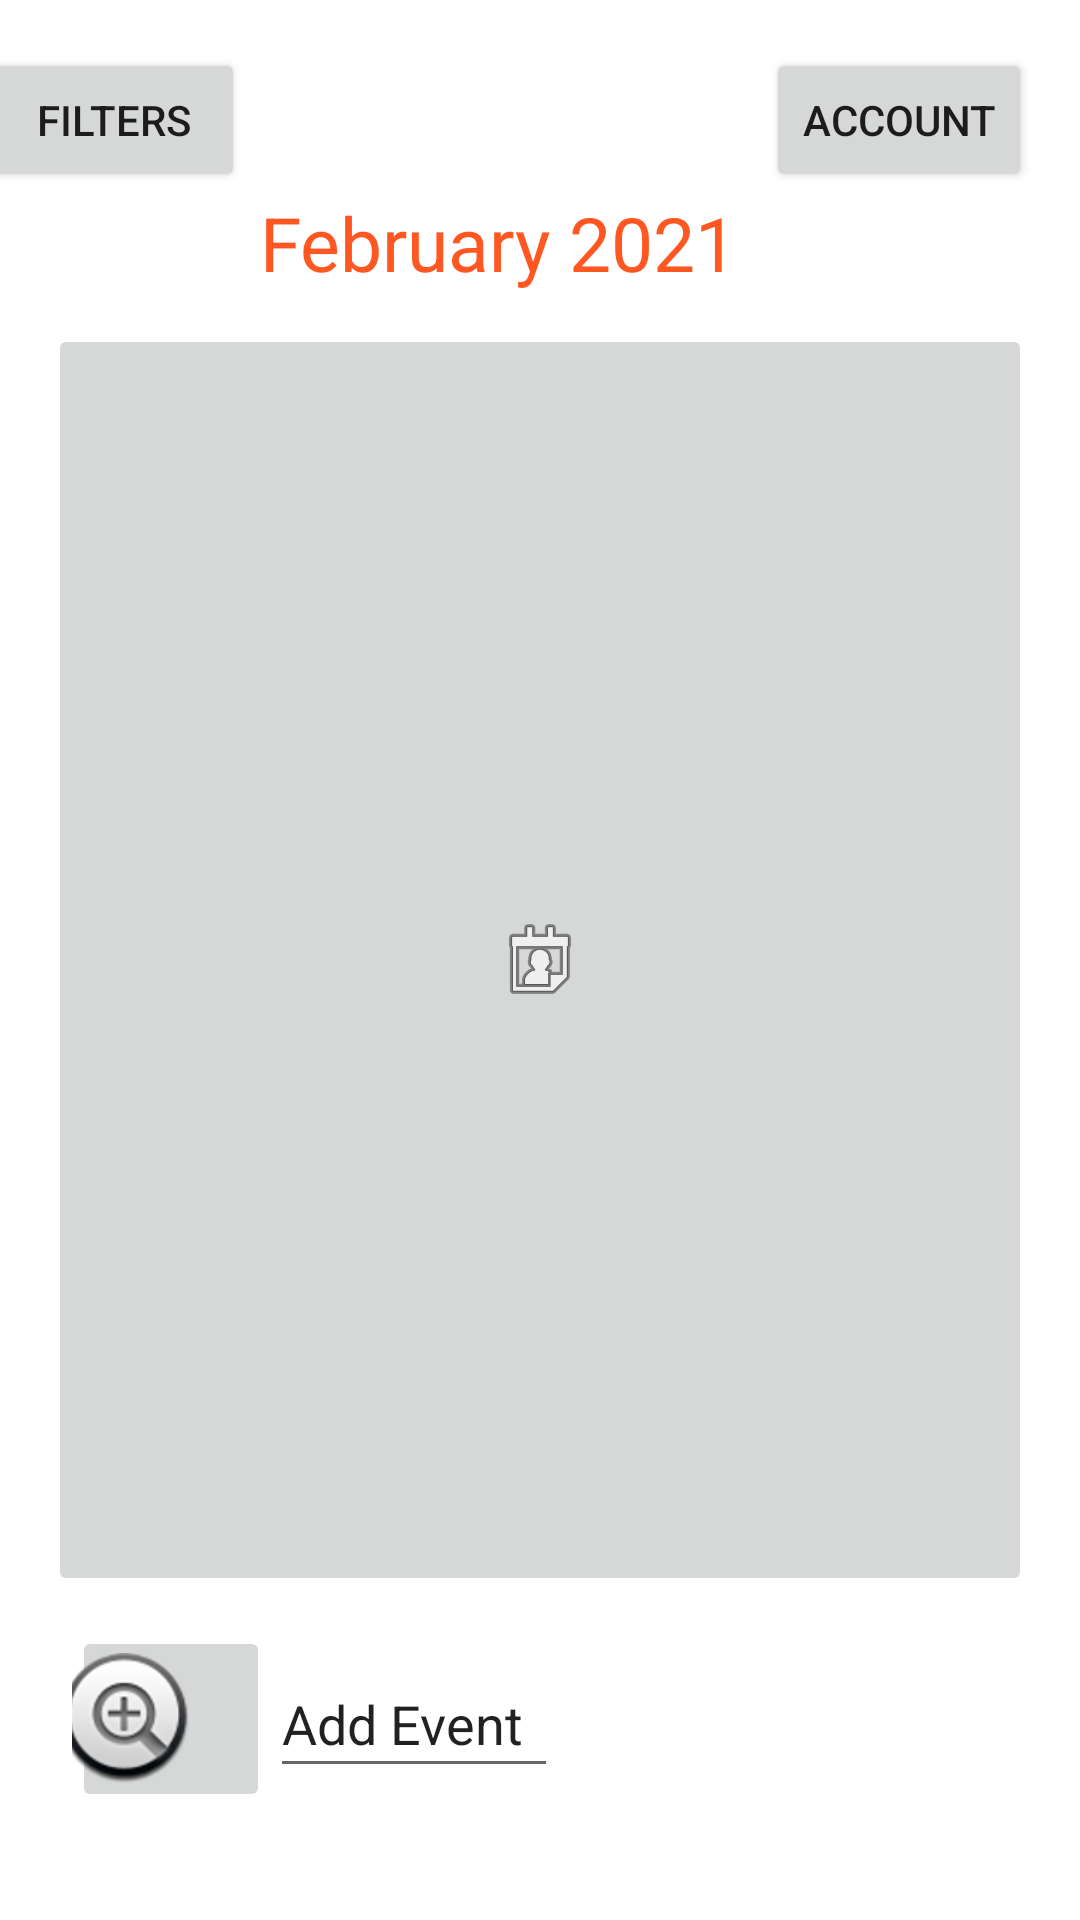

Locate icon controls on the screen. Image size 1080*1920, boxes as (x1, y1, x2, y2).
plus: (72, 1644, 258, 1794)
